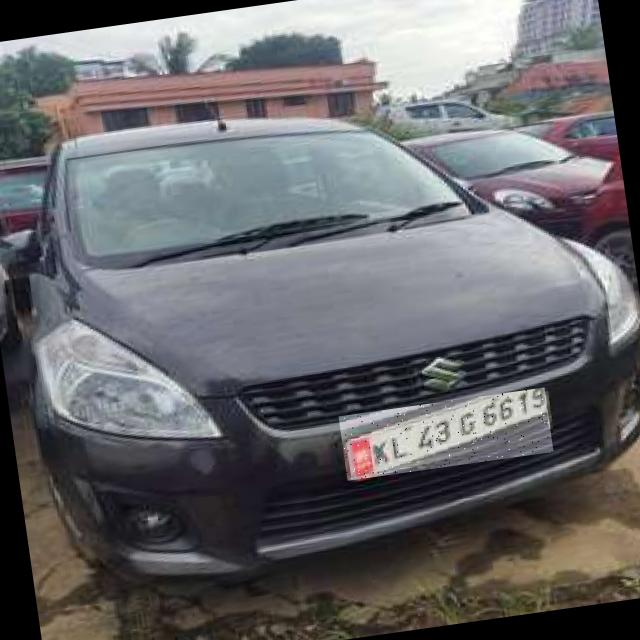Plate: (340, 389, 555, 482)
